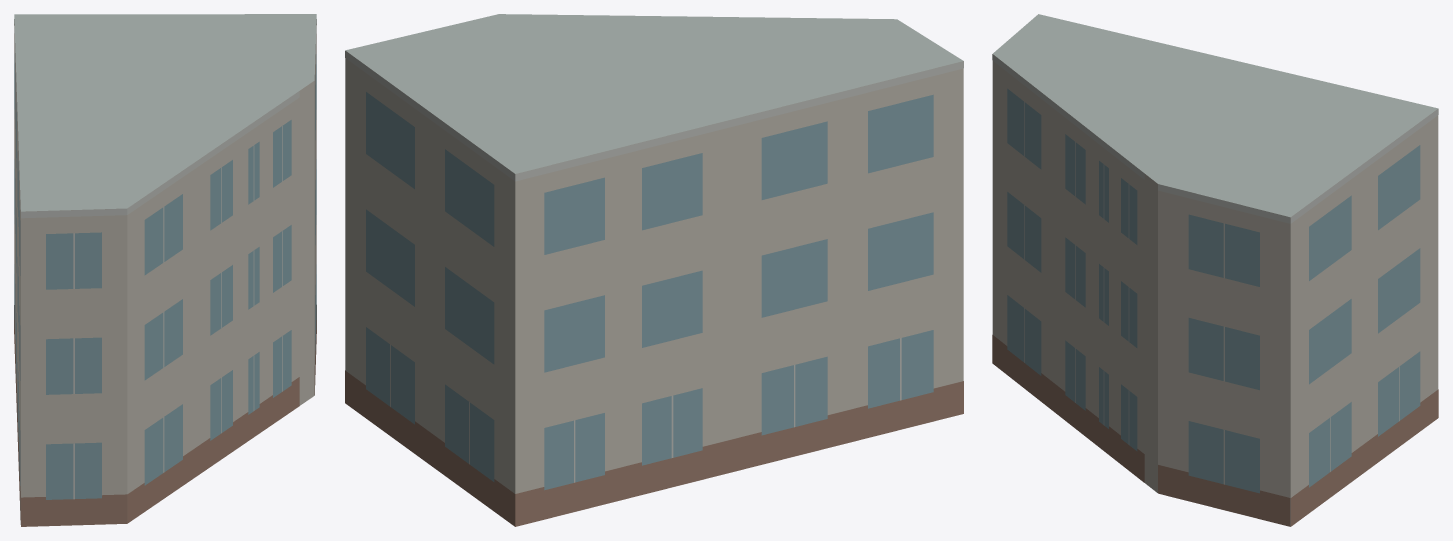
The model's file is survey-upis-32894870.glb.
3 views of the same model, side by side, from view 1: azimuth 30°, elevation 25°; view 2: azimuth 150°, elevation 25°; view 3: azimuth 270°, elevation 25° (orthographic). The views are drawn at different scales.
Parts seen in each view (by area): view 1: survey-upis-32894870.tmp; view 2: survey-upis-32894870.tmp; view 3: survey-upis-32894870.tmp.
Part boxes in pixels (x1,y1,x2,y2): survey-upis-32894870.tmp: (14,14,316,526); survey-upis-32894870.tmp: (345,14,963,526); survey-upis-32894870.tmp: (992,14,1438,526).
Size of the model in its own units: 16.26 by 11.54 by 15.08.
